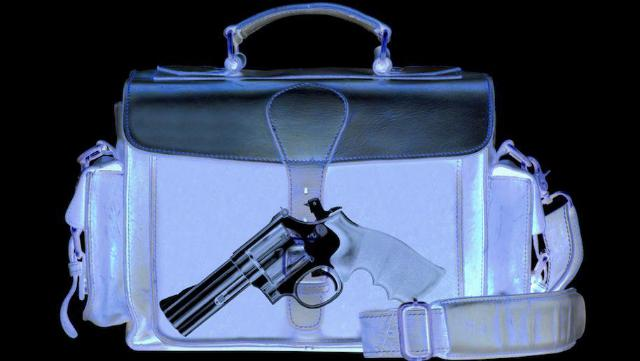Gun: (156, 198, 448, 337)
